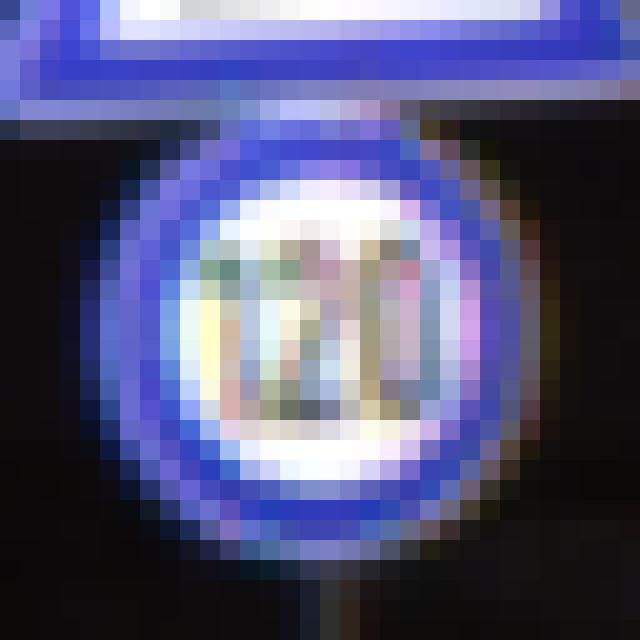SPEED LIMIT 120: (84, 135, 552, 568)
